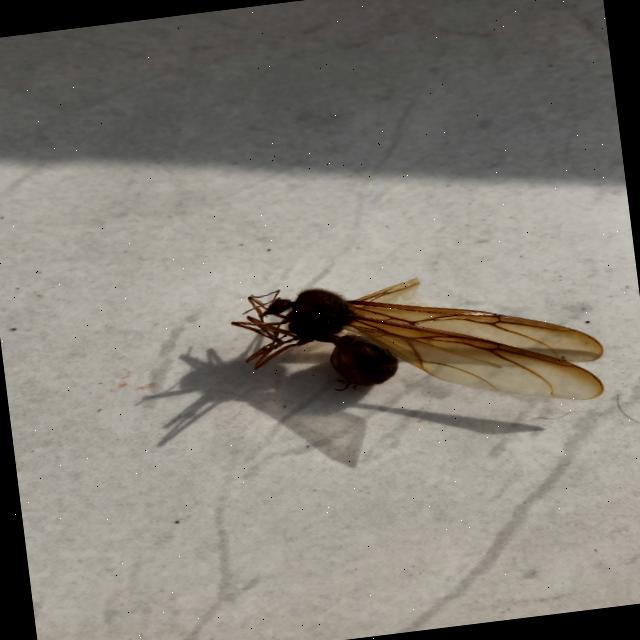Dead-Male-Alate: (226, 251, 610, 442)
